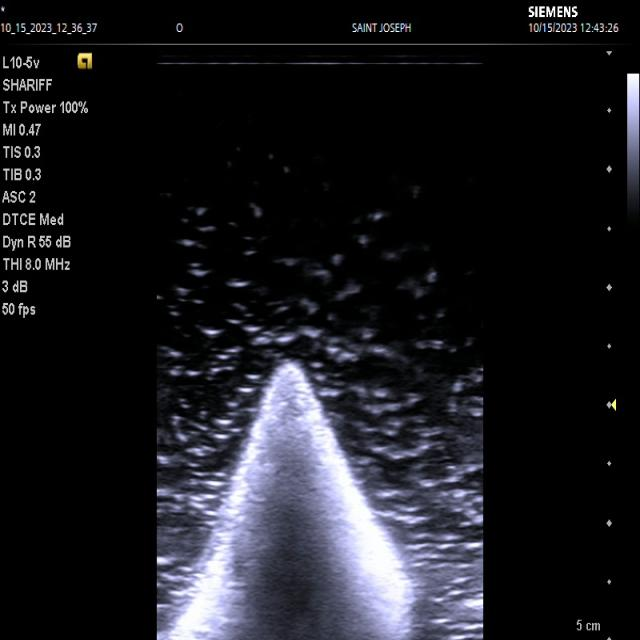tissue: (162, 362, 415, 640)
